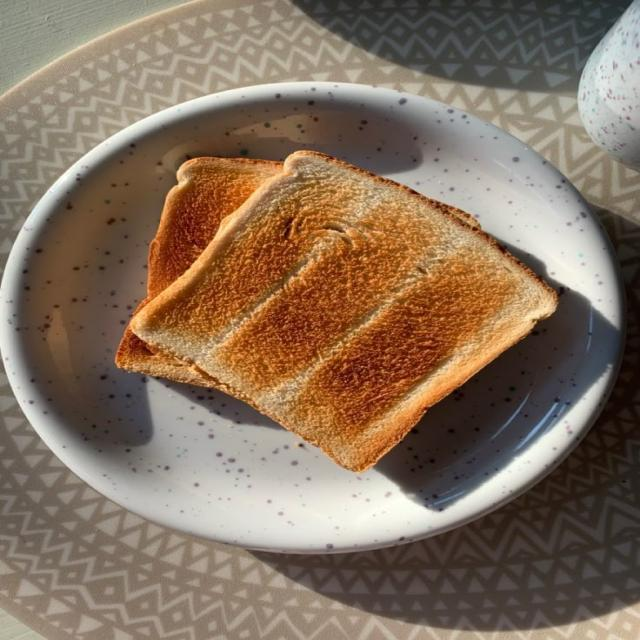toast bread: (131, 152, 557, 471), (135, 158, 281, 313)
